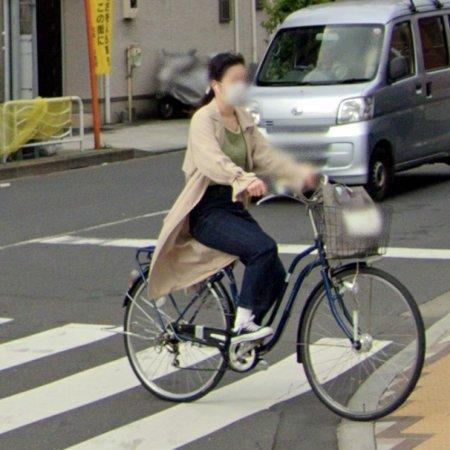bicycles: (124, 179, 427, 422)
